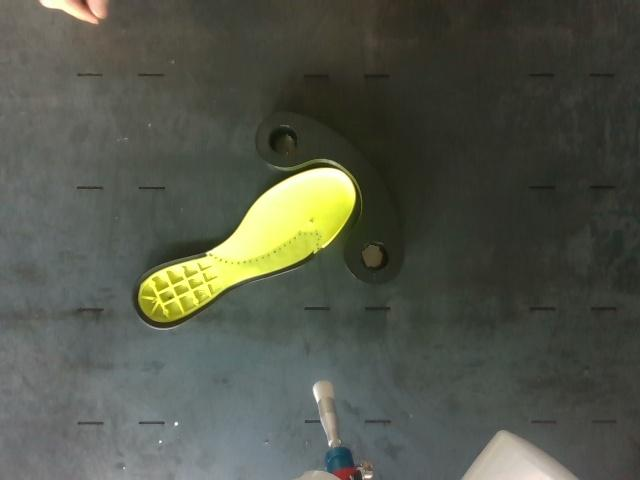shoes: (133, 169, 354, 329)
